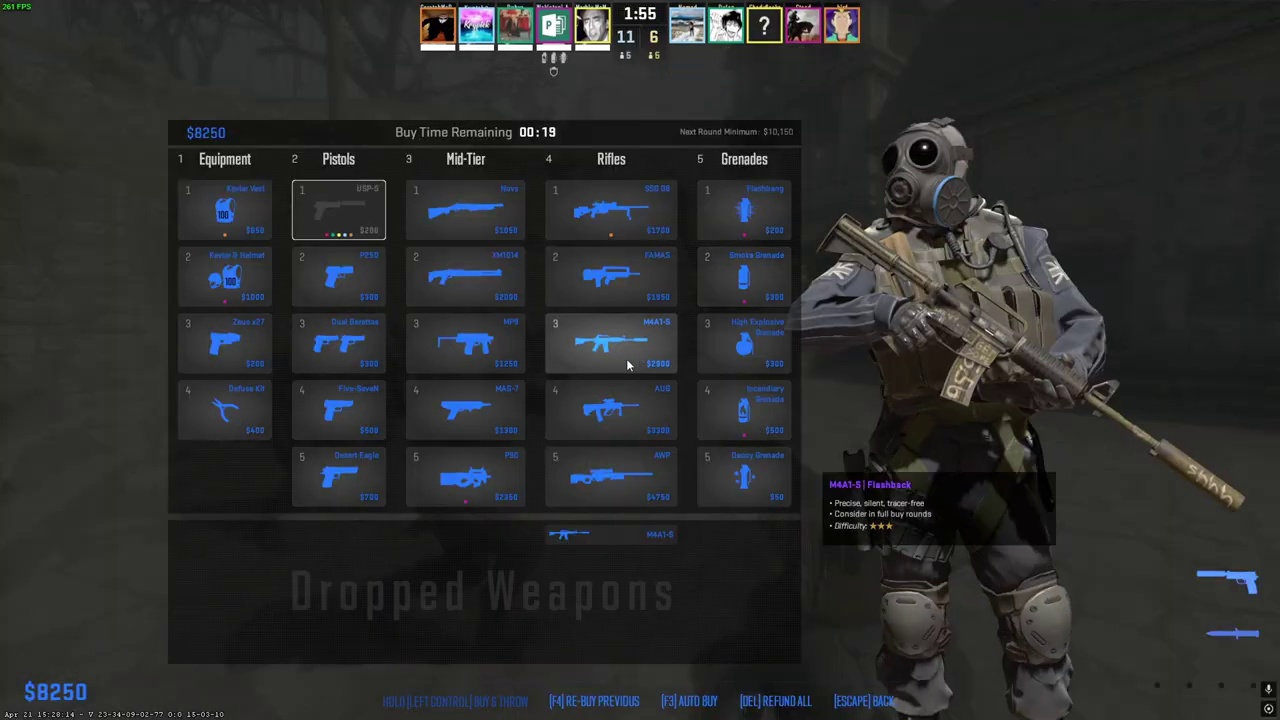CT: (851, 121, 1091, 720)
